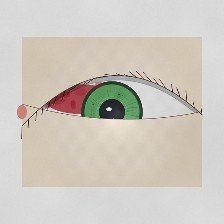hemorrhage_spot: (31, 59, 131, 139)
